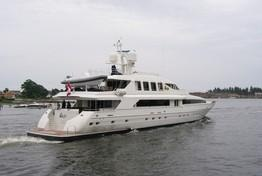yacht: (26, 38, 217, 142)
